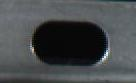holes: (33, 19, 110, 68)
